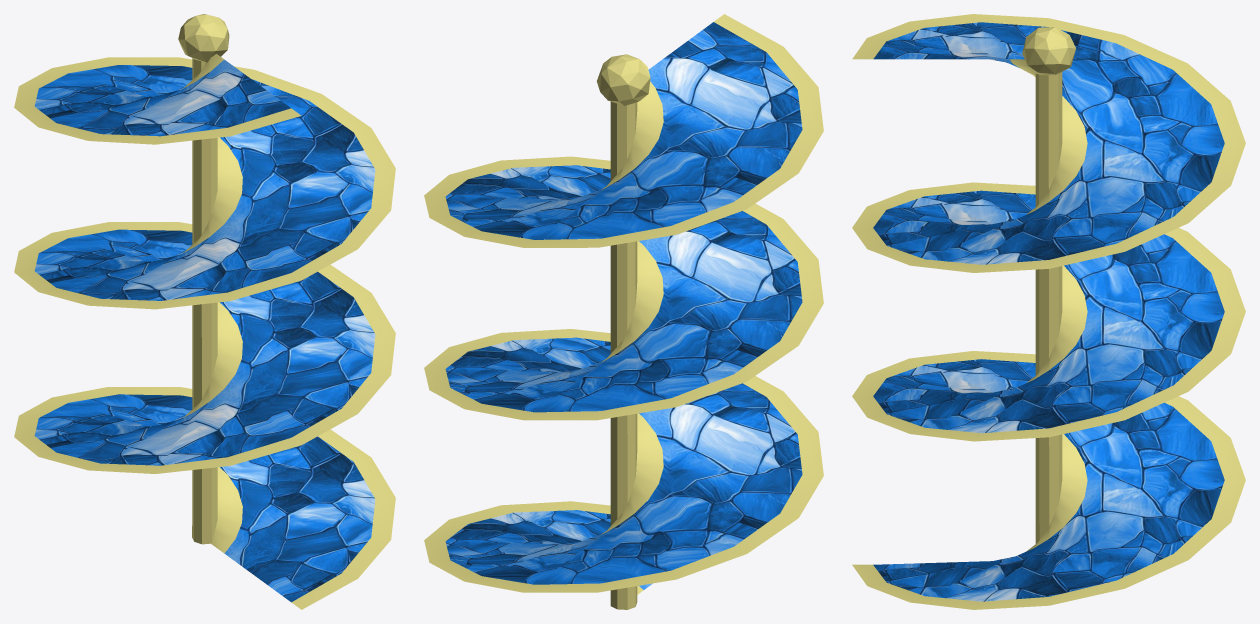
File: windSpiraCompressedl.glb
The picture shows the model from 3 angles, left to right: view 1: azimuth 30°, elevation 25°; view 2: azimuth 150°, elevation 25°; view 3: azimuth 270°, elevation 25°; orthographic projection. The views are drawn at different scales.
Parts seen in each view (by area): view 1: Sphere; view 2: Sphere; view 3: Sphere.
Part boxes in pixels (x1,y1,x2,y2): Sphere: [14, 14, 395, 609]; Sphere: [424, 14, 823, 609]; Sphere: [852, 14, 1245, 609].
Size of the model in its own units: 1 by 1.5 by 1.
Materials: 2 (1 with a texture image).
